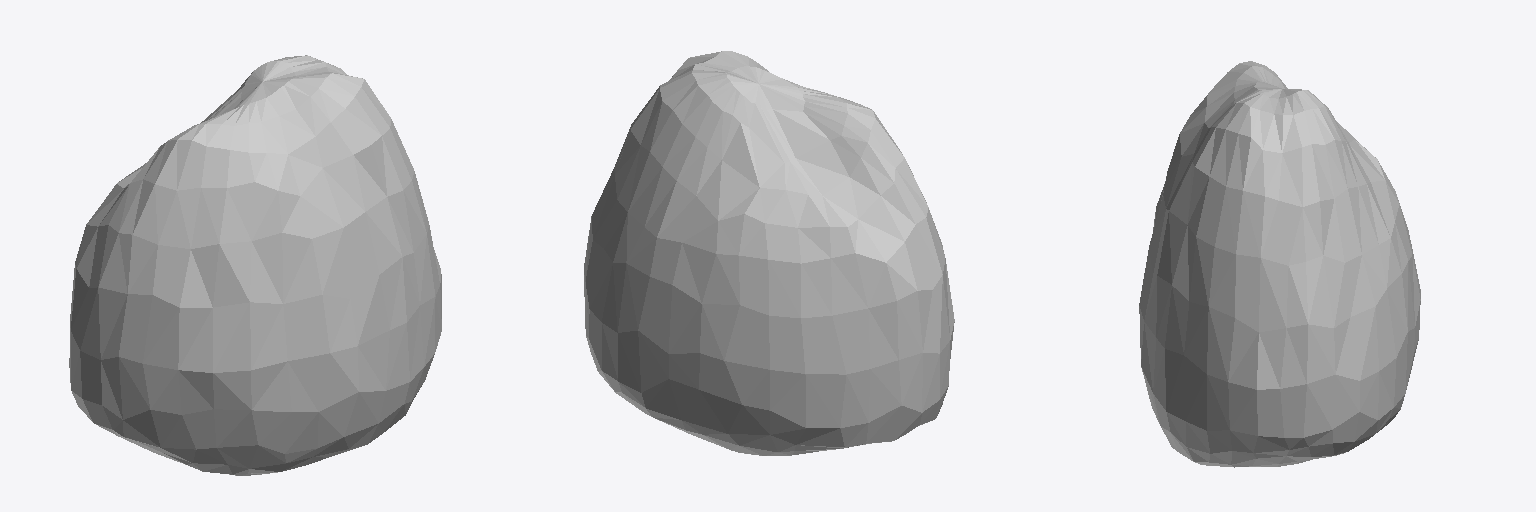
File: O_IceWorldGiantHail_a.obj
The picture shows the model from 3 angles: view 1: azimuth 30°, elevation 25°; view 2: azimuth 150°, elevation 25°; view 3: azimuth 270°, elevation 25°; orthographic projection.
Parts seen in each view (by area): view 1: O_IceWorldGiantHail_a; view 2: O_IceWorldGiantHail_a; view 3: O_IceWorldGiantHail_a.
Part boxes in pixels (left/top/right/bottom): O_IceWorldGiantHail_a: left=69, top=55, right=441, bottom=475; O_IceWorldGiantHail_a: left=584, top=51, right=954, bottom=455; O_IceWorldGiantHail_a: left=1139, top=61, right=1420, bottom=467.
Size of the model in its own units: 86.88 by 86.29 by 60.92.